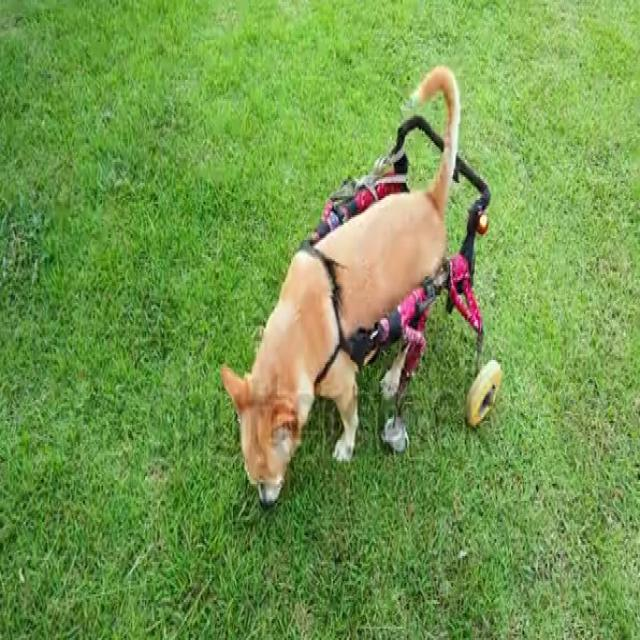injured-animals: (216, 61, 495, 512)
